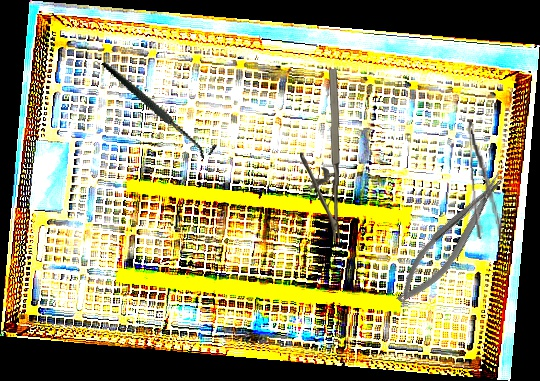Dressing Forceps: (465, 118, 504, 240)
Hook Surgical: (100, 35, 220, 180)
Needle Holder: (385, 166, 519, 313), (298, 68, 343, 244)
